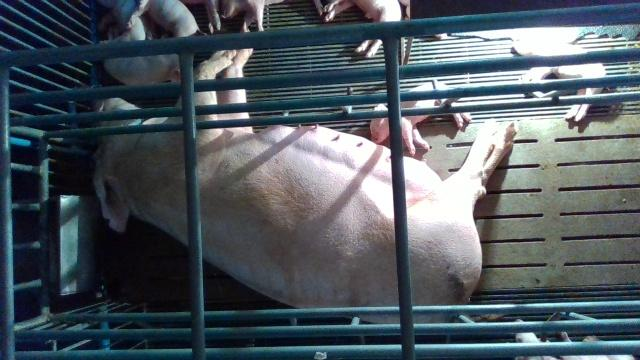piglet: (369, 82, 472, 157), (514, 42, 611, 121), (323, 0, 402, 58), (126, 0, 207, 38), (103, 52, 181, 86), (96, 0, 146, 44), (222, 0, 284, 33)
sow-sleep-lactate: (93, 46, 517, 325)
